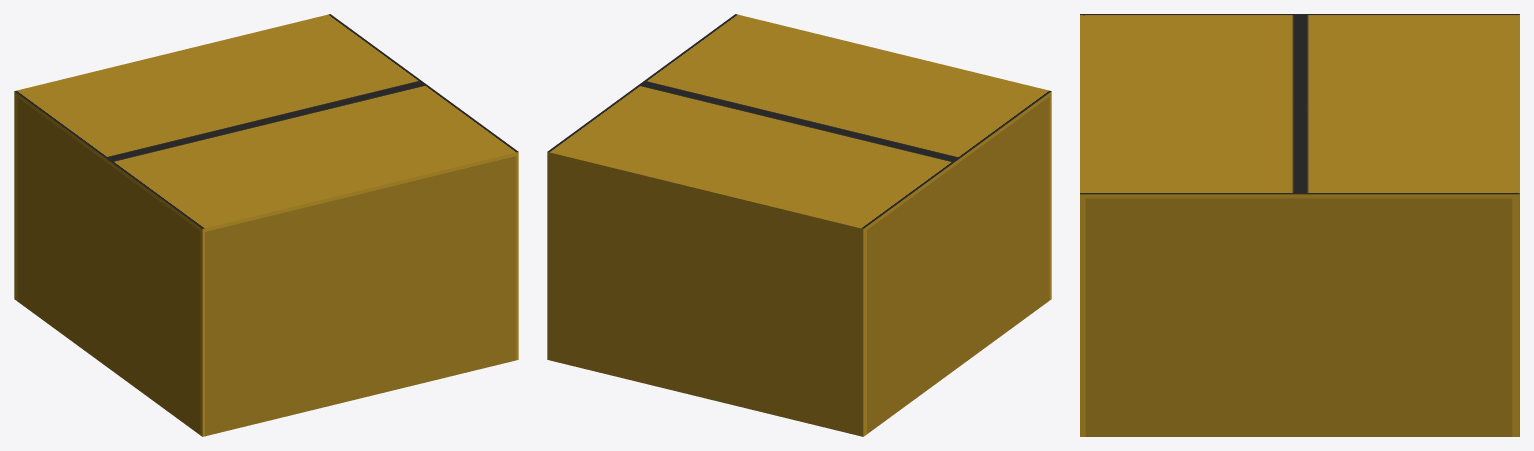
Rendered from BoxSmall.glb.
3 renders of one model, left to right at view 1: azimuth 30°, elevation 25°; view 2: azimuth 150°, elevation 25°; view 3: azimuth 270°, elevation 25°, orthographic. The views are drawn at different scales.
Visible parts, largest first — view 1: BoxSmall; view 2: BoxSmall; view 3: BoxSmall.
Boxes of the visible parts, left/top/right/bottom form: BoxSmall: left=14, top=14, right=518, bottom=436; BoxSmall: left=547, top=14, right=1051, bottom=436; BoxSmall: left=1080, top=14, right=1519, bottom=436.
Size of the model in its own units: 1.22 by 0.7683 by 1.26.
1 material, 1 textured.
